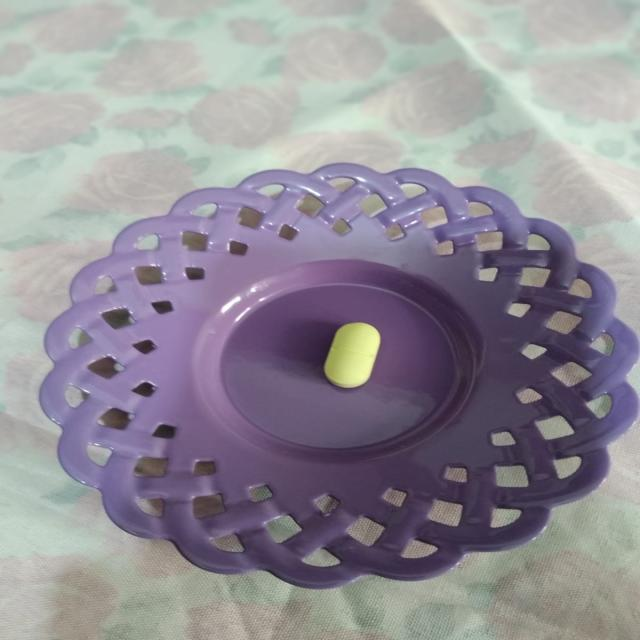pills: (313, 306, 391, 394)
